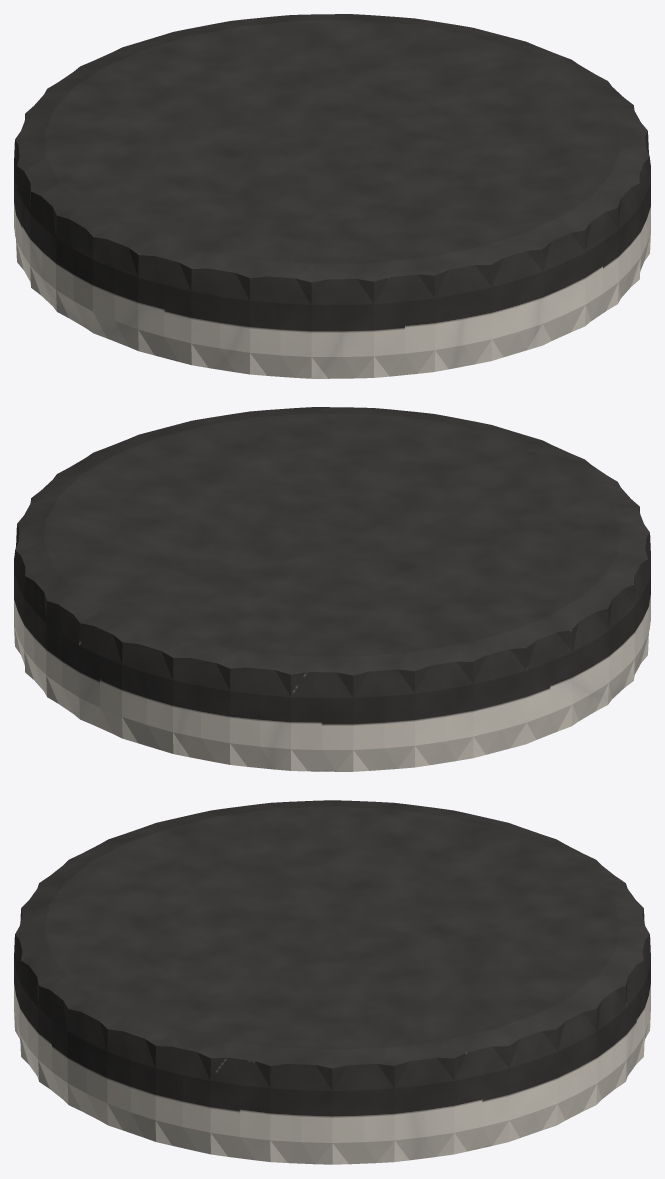
File: disc.glb
The picture shows the model from 3 angles, top to bottom: view 1: azimuth 30°, elevation 25°; view 2: azimuth 150°, elevation 25°; view 3: azimuth 270°, elevation 25°; orthographic projection.
Visible parts, largest first — view 1: disc-convcol; view 2: disc-convcol; view 3: disc-convcol.
Part boxes in pixels (x1,y1,x2,y2): disc-convcol: (14, 14, 650, 378); disc-convcol: (14, 407, 650, 771); disc-convcol: (14, 800, 650, 1164).
Size of the model in its own units: 0.0408 by 0.00766 by 0.0408.
Materials: 1 (1 with a texture image).
